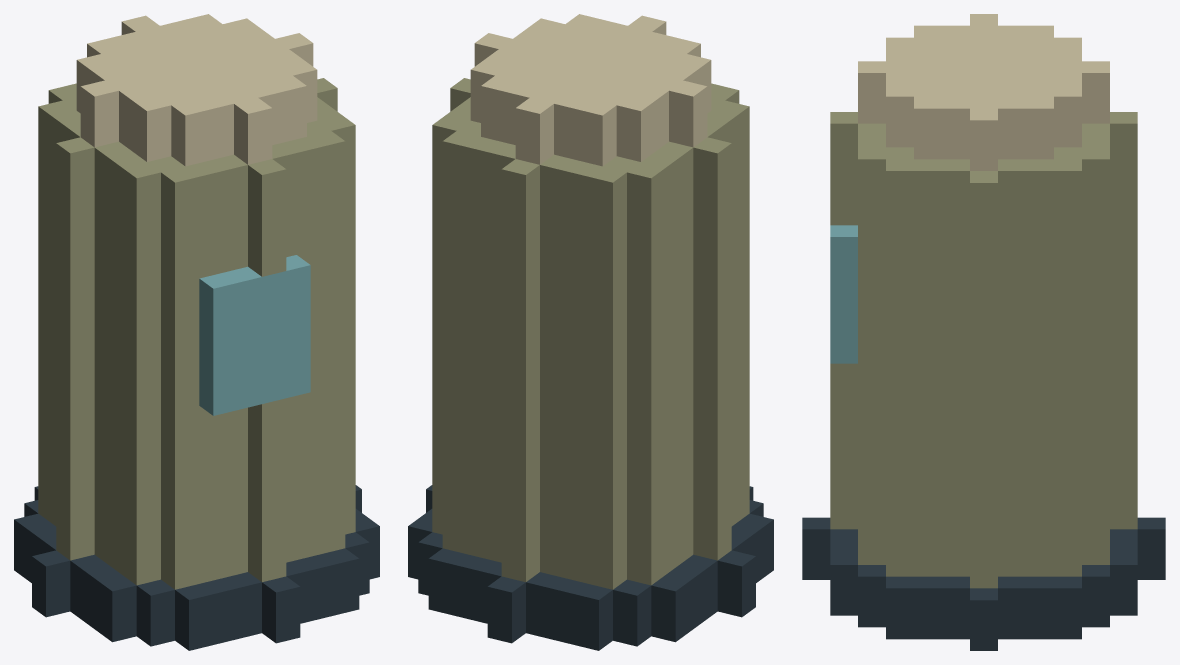
File: chemistry-19.glb
3 renders of one model, left to right at view 1: azimuth 30°, elevation 25°; view 2: azimuth 150°, elevation 25°; view 3: azimuth 270°, elevation 25°, orthographic.
Visible parts, largest first — view 1: Storage drum; view 2: Storage drum; view 3: Storage drum.
Boxes of the visible parts, x1,y1,x2,y2 form: Storage drum: (14,14,379,650); Storage drum: (408,14,773,650); Storage drum: (802,14,1165,650).
Bounding box in the file's own units: 1.04 × 1.6 × 1.04.
